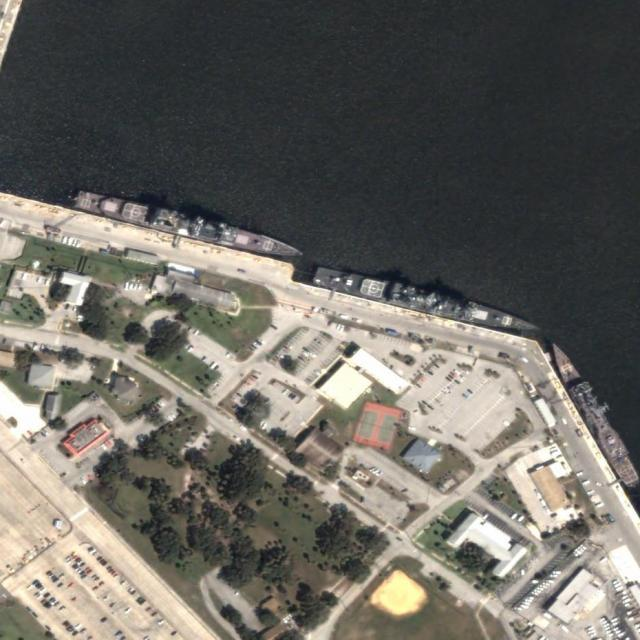Cruiser: (76, 191, 303, 264), (313, 267, 540, 340)
Frigate: (546, 337, 638, 487)
